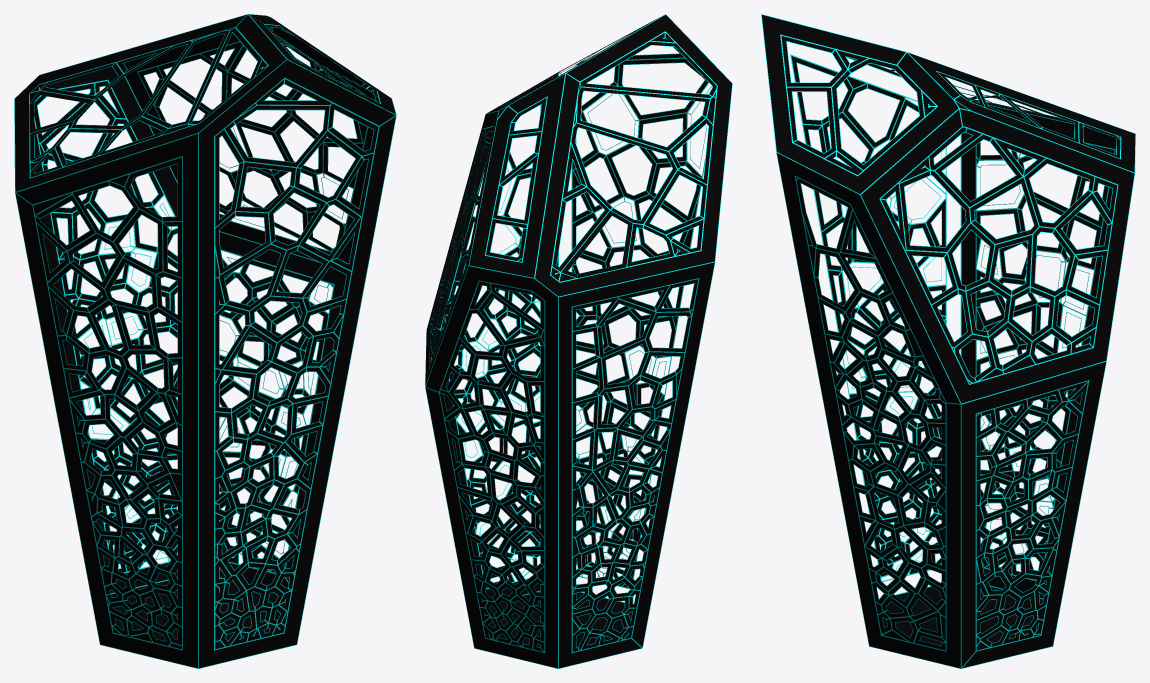
The model's file is Crystal-257-8.fbx.
The picture shows the model from 3 angles, left to right: view 1: azimuth 30°, elevation 25°; view 2: azimuth 150°, elevation 25°; view 3: azimuth 270°, elevation 25°; orthographic projection. The views are drawn at different scales.
Parts seen in each view (by area): view 1: subnet1; view 2: subnet1; view 3: subnet1.
Part boxes in pixels (x1,y1,x2,y2): subnet1: [14, 14, 396, 668]; subnet1: [425, 14, 732, 668]; subnet1: [761, 14, 1135, 668].
Bounding box in the file's own units: 137 × 250 × 141.
